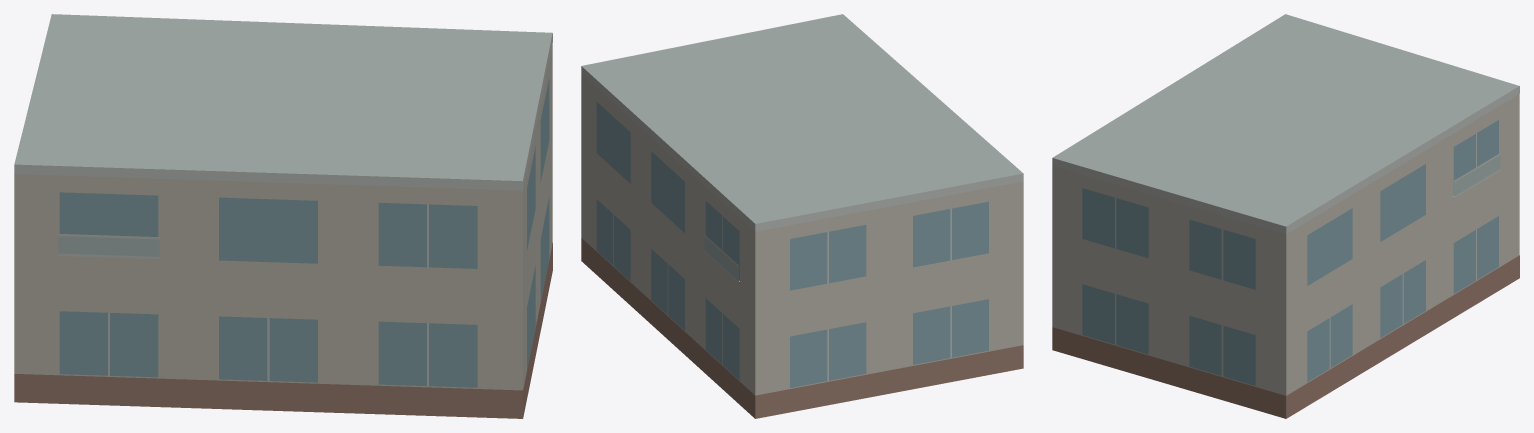
Rendered from survey-upis-32714484.glb.
3 renders of one model, left to right at view 1: azimuth 30°, elevation 25°; view 2: azimuth 150°, elevation 25°; view 3: azimuth 270°, elevation 25°, orthographic. The views are drawn at different scales.
Parts seen in each view (by area): view 1: survey-upis-32714484.tmp; view 2: survey-upis-32714484.tmp; view 3: survey-upis-32714484.tmp.
Boxes of the visible parts, x1,y1,x2,y2 form: survey-upis-32714484.tmp: (14,14,552,418); survey-upis-32714484.tmp: (581,14,1023,418); survey-upis-32714484.tmp: (1052,14,1519,418).
Size of the model in its own units: 14.48 by 6.1 by 13.45.
